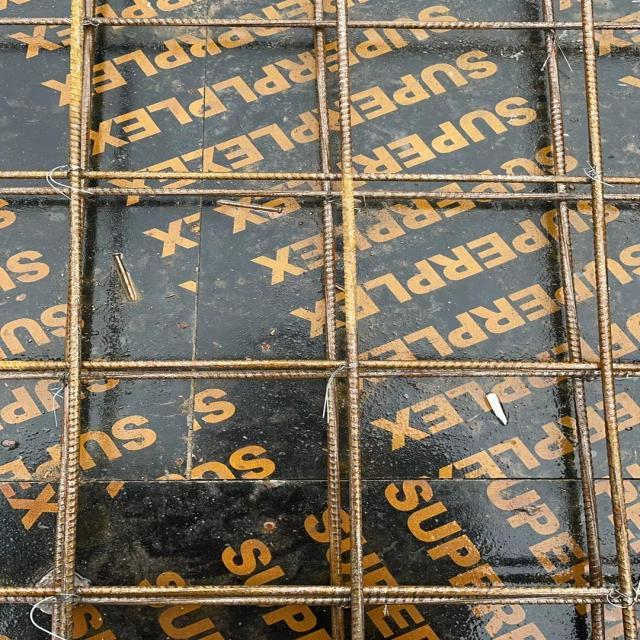ribbed bar: (538, 0, 608, 639), (576, 0, 638, 639), (50, 0, 95, 639), (311, 0, 343, 639), (334, 0, 366, 639), (0, 360, 639, 381), (0, 586, 639, 606), (0, 168, 639, 185), (0, 186, 639, 202), (0, 18, 639, 30)
